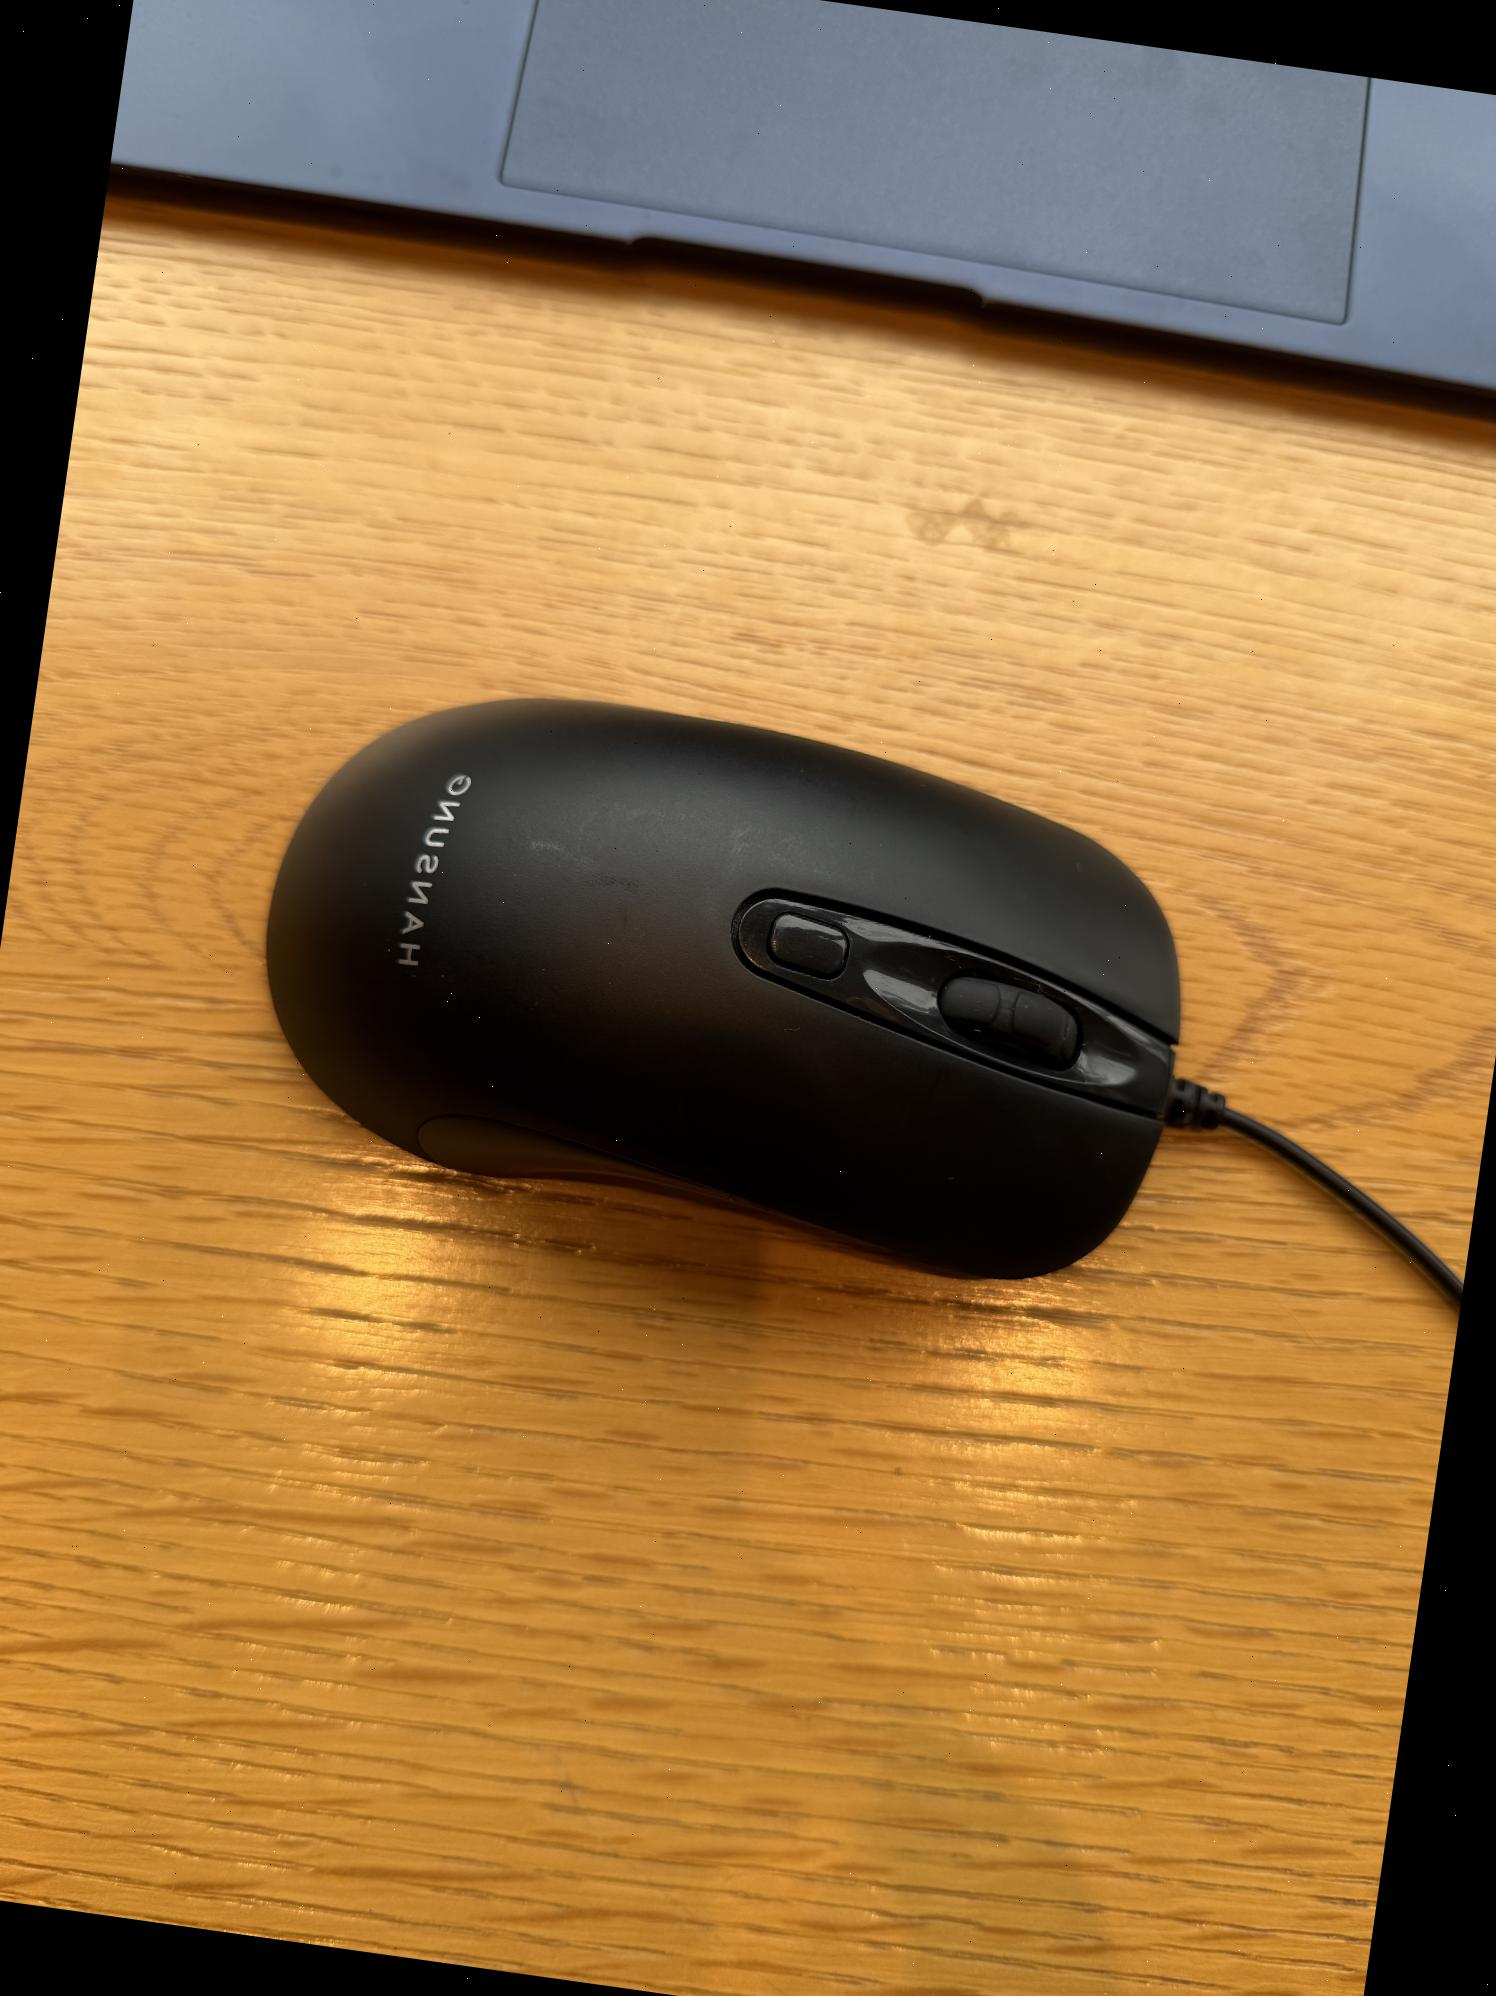front: (222, 651, 1227, 1297)
